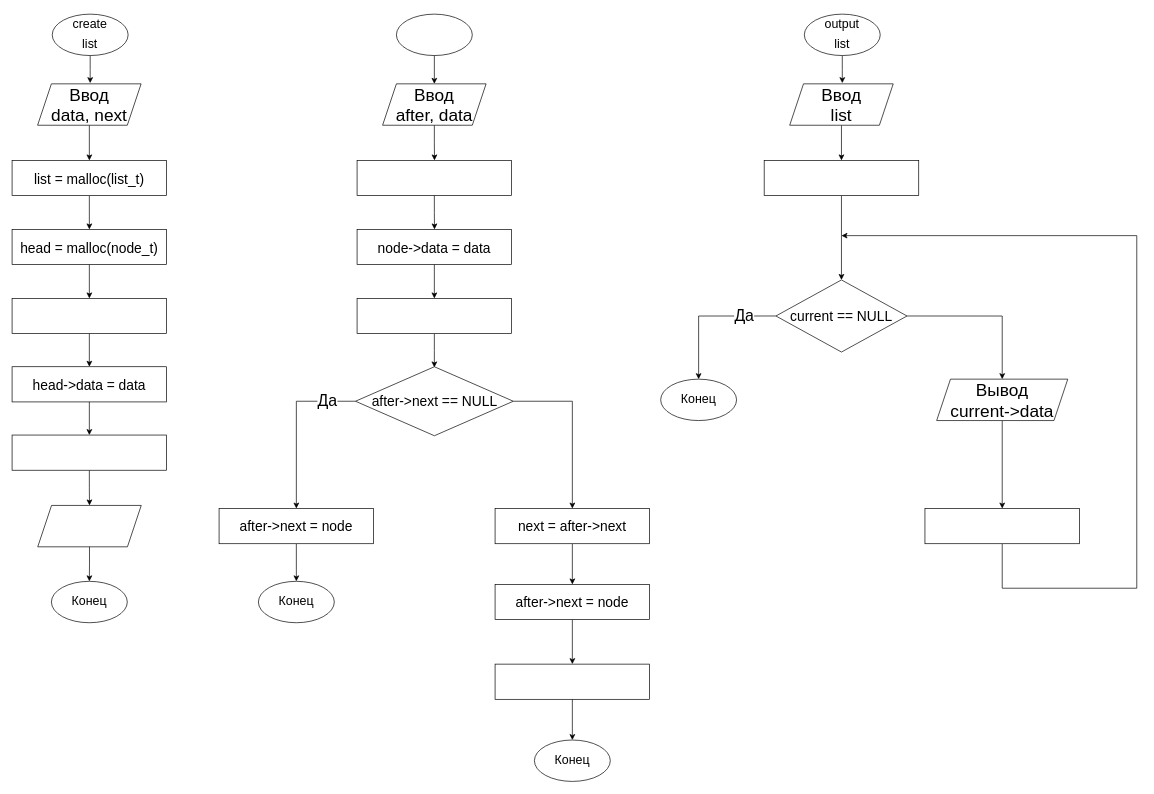
The diagram is 1154 pixels wide and 794 high, and some of its shapes have lost their labels. The centre of each missing label's shape, as x and y in pixels:
current = current->next: (1002,526)
current = list->head: (841,178)
head->next = NULL: (89,452)
insert after: (434,34)
list->head = head: (89,316)
node = malloc(node_t): (434,178)
node->next = next: (572,681)
node->next = NULL: (434,316)
Вывод list: (89,526)
